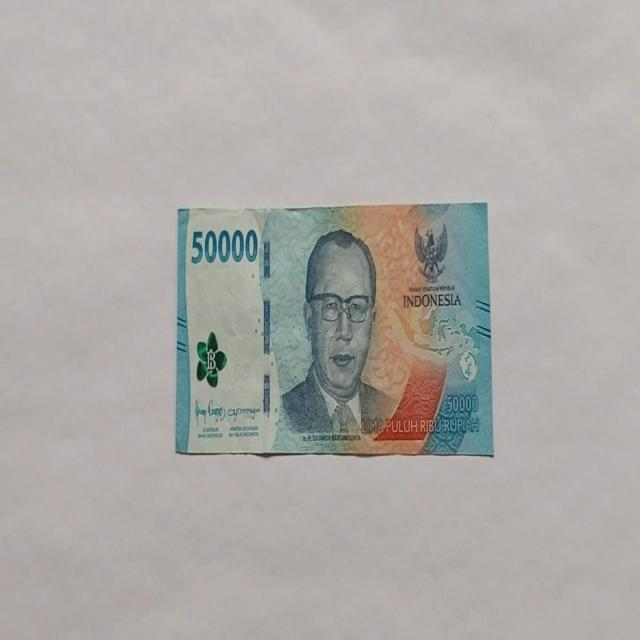lima puluh ribu rupiah: (175, 201, 493, 459), (276, 226, 399, 444)
